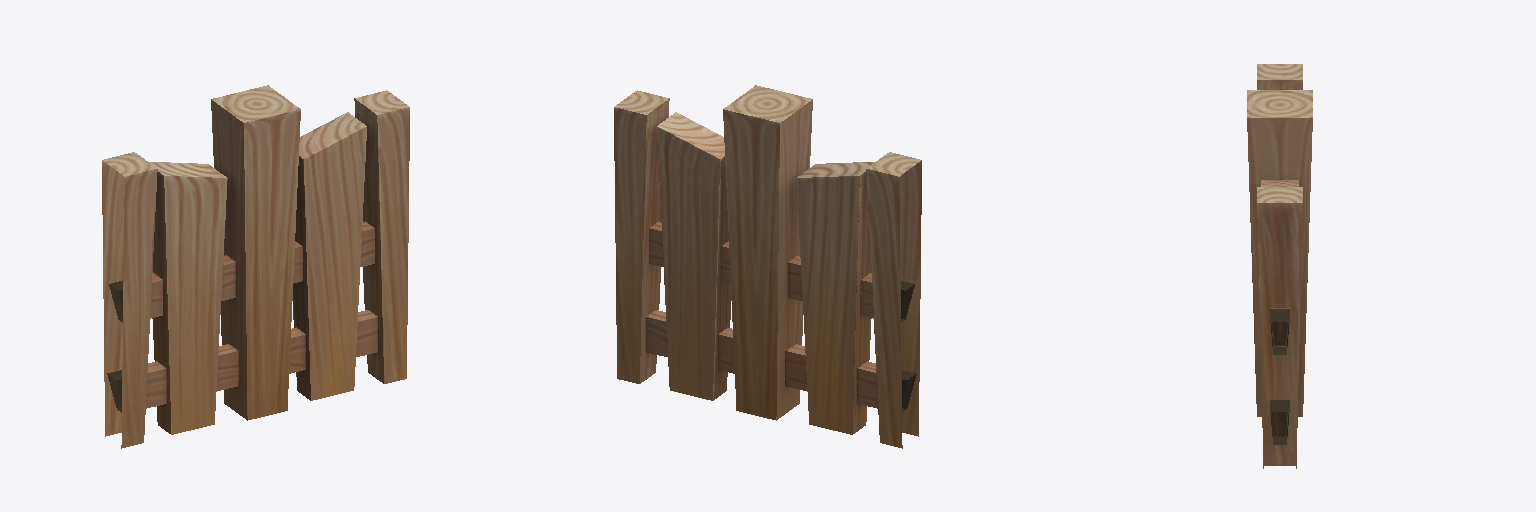
3 renders of one model, left to right at view 1: azimuth 30°, elevation 25°; view 2: azimuth 150°, elevation 25°; view 3: azimuth 270°, elevation 25°, orthographic.
Parts seen in each view (by area): view 1: fence2_middle2; view 2: fence2_middle2; view 3: fence2_middle2.
Part boxes in pixels (x1,y1,x2,y2): fence2_middle2: (102, 85, 409, 448); fence2_middle2: (614, 85, 921, 448); fence2_middle2: (1247, 64, 1312, 468).
Size of the model in its own units: 50.49 by 50.83 by 10.
Materials: 1 (1 with a texture image).